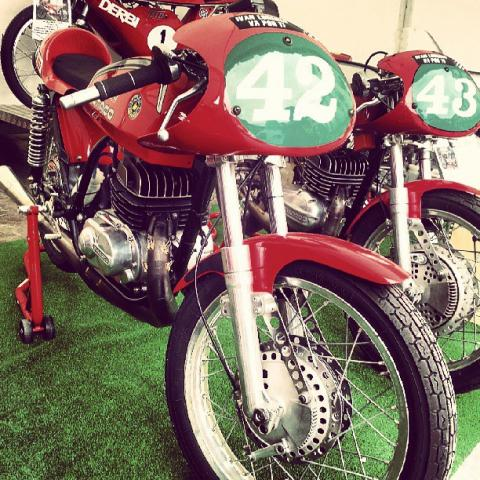motorcycle: (2, 11, 464, 472), (287, 47, 479, 382)
